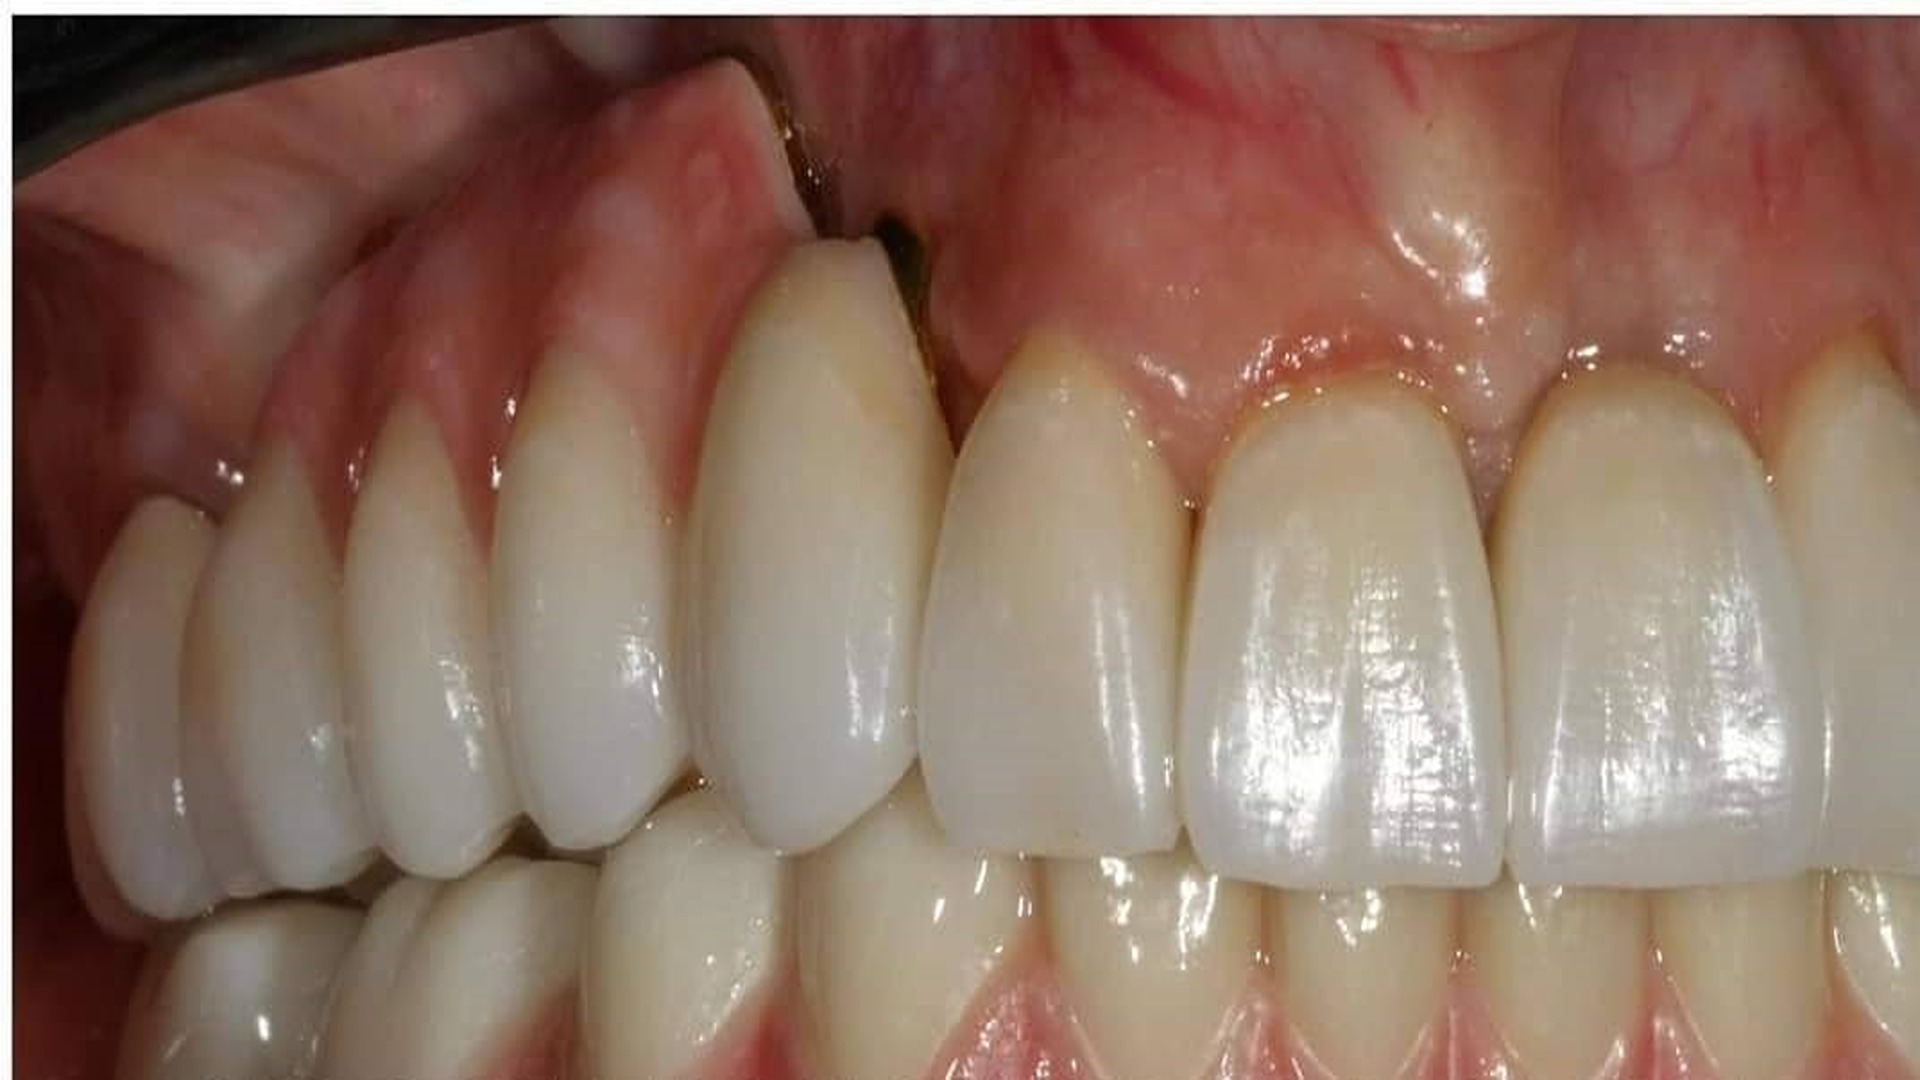tooth: (1487, 359, 1826, 887), (1178, 373, 1509, 890), (680, 237, 951, 855), (916, 331, 1192, 858), (488, 345, 690, 851), (181, 429, 378, 897), (342, 393, 522, 880), (1766, 328, 1917, 877), (790, 762, 1033, 1077), (63, 495, 227, 942), (316, 857, 600, 1077), (585, 789, 786, 1077), (1043, 828, 1262, 1077), (115, 898, 363, 1077), (1458, 857, 1648, 1077), (1648, 872, 1834, 1077), (1271, 885, 1458, 1077), (1832, 868, 1917, 1063)
